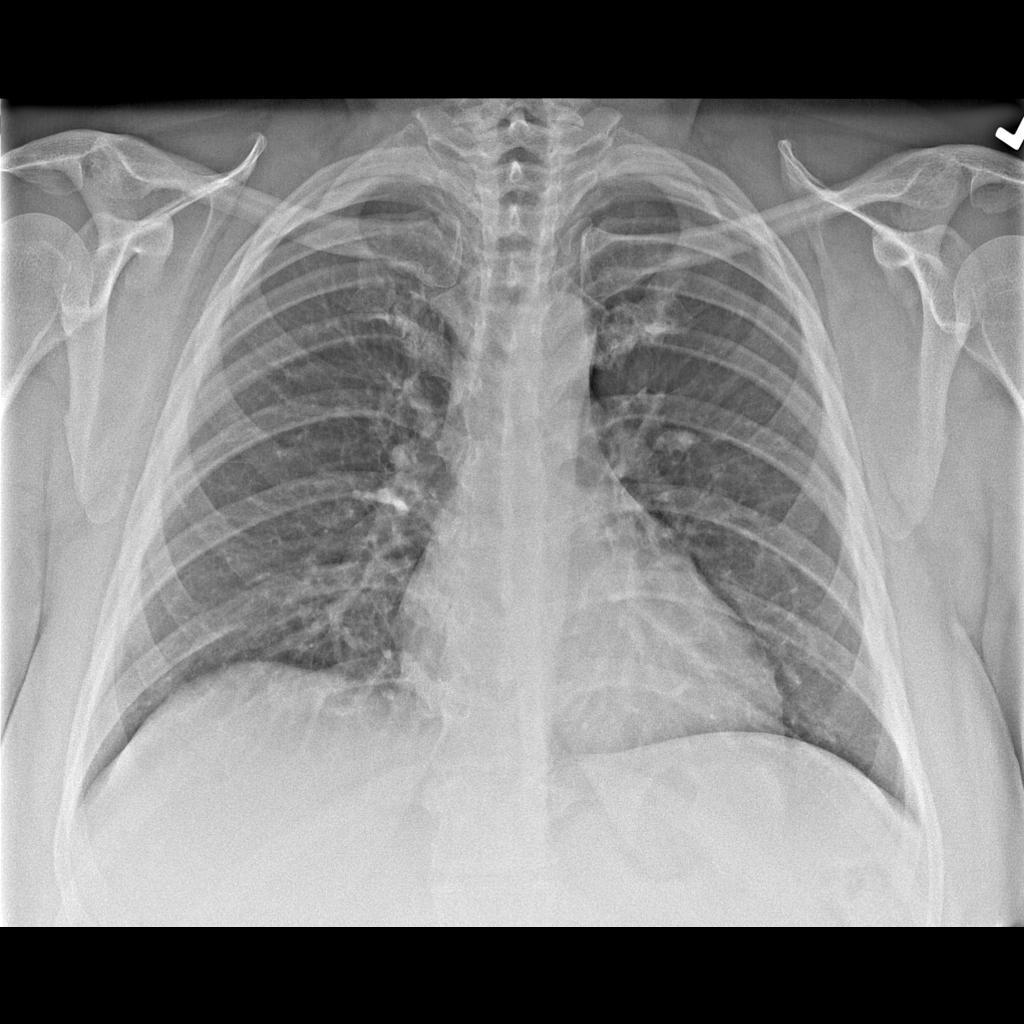Nodule: (654, 422, 705, 464)
